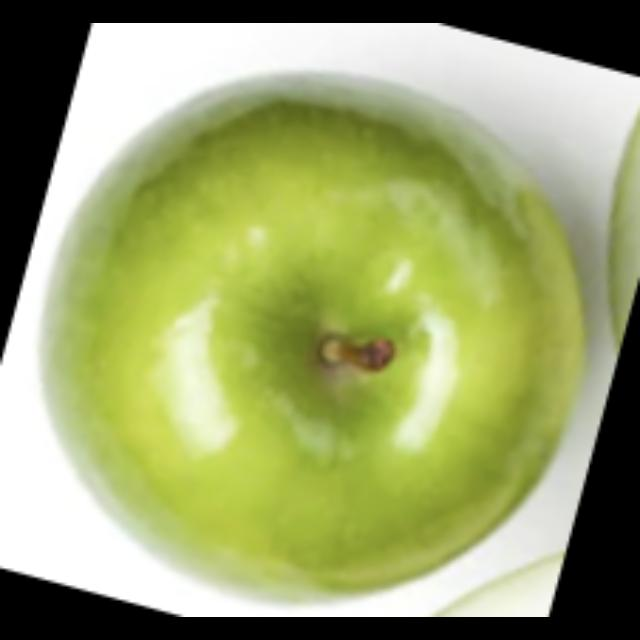Apel Segar: (23, 53, 594, 612)
